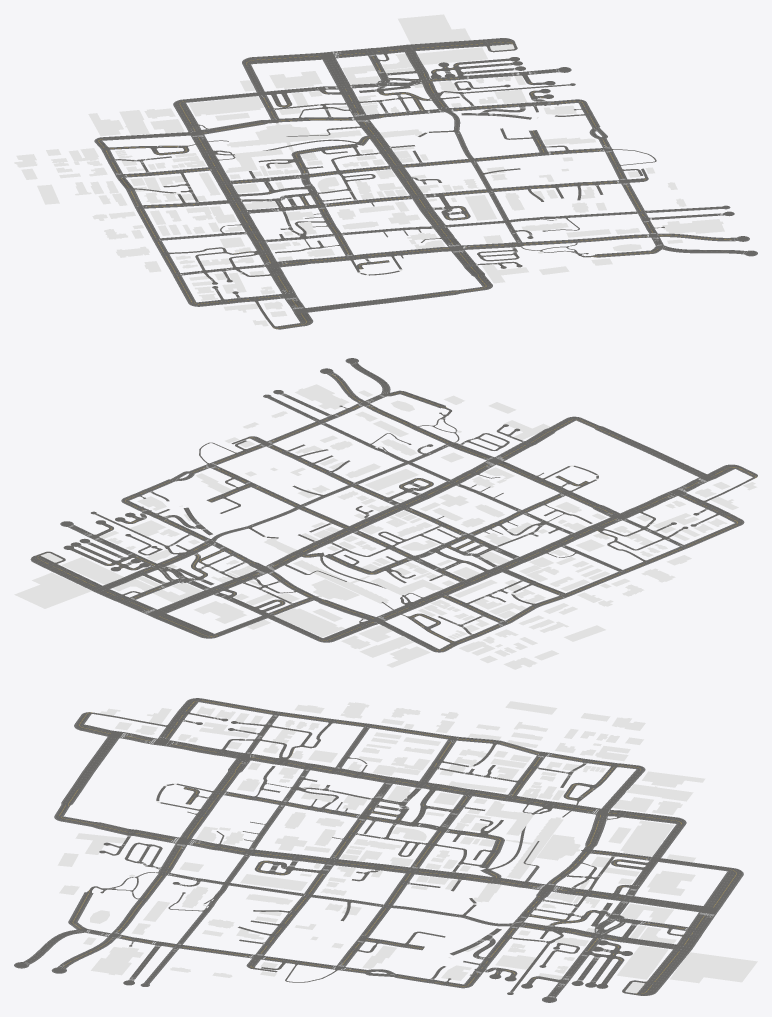
The model's file is Hamilton-James_0.fbx.
3 renders of one model, top to bottom at view 1: azimuth 30°, elevation 25°; view 2: azimuth 150°, elevation 25°; view 3: azimuth 270°, elevation 25°, orthographic. The views are drawn at different scales.
Parts seen in each view (by area): view 1: CityEngineShapeMaterial_m, CityEngineMaterial_4_m, CityEngineMaterial_2_m, CityEngineMaterial_m, CityEngineMaterial_1_m, CityEngineMaterial_5_m, CityEngineMaterial_6_m, CityEngineMaterial_9_m; view 2: CityEngineShapeMaterial_m, CityEngineMaterial_4_m, CityEngineMaterial_2_m, CityEngineMaterial_m, CityEngineMaterial_1_m, CityEngineMaterial_5_m, CityEngineMaterial_6_m, CityEngineMaterial_9_m; view 3: CityEngineShapeMaterial_m, CityEngineMaterial_4_m, CityEngineMaterial_2_m, CityEngineMaterial_m, CityEngineMaterial_1_m, CityEngineMaterial_5_m, CityEngineMaterial_6_m, CityEngineMaterial_9_m, CityEngineMaterial_10_m.
Boxes of the visible parts, x1,y1,x2,y2 form: CityEngineShapeMaterial_m: (14, 14, 724, 326); CityEngineMaterial_4_m: (96, 38, 735, 328); CityEngineMaterial_2_m: (94, 38, 757, 329); CityEngineMaterial_m: (102, 45, 756, 313); CityEngineMaterial_1_m: (95, 38, 756, 328); CityEngineMaterial_5_m: (98, 42, 730, 328); CityEngineMaterial_6_m: (114, 52, 723, 309); CityEngineMaterial_9_m: (141, 63, 733, 303); CityEngineShapeMaterial_m: (14, 384, 757, 669); CityEngineMaterial_4_m: (31, 366, 757, 651); CityEngineMaterial_2_m: (30, 358, 757, 652); CityEngineMaterial_m: (56, 359, 717, 645); CityEngineMaterial_1_m: (31, 358, 757, 651); CityEngineMaterial_5_m: (37, 374, 756, 650); CityEngineMaterial_6_m: (69, 393, 707, 635); CityEngineMaterial_9_m: (78, 374, 691, 627); CityEngineShapeMaterial_m: (57, 701, 757, 993); CityEngineMaterial_4_m: (31, 699, 741, 996); CityEngineMaterial_2_m: (14, 698, 743, 1002); CityEngineMaterial_m: (15, 712, 718, 1002); CityEngineMaterial_1_m: (17, 698, 742, 1002); CityEngineMaterial_5_m: (59, 700, 736, 993); CityEngineMaterial_6_m: (86, 715, 714, 997); CityEngineMaterial_9_m: (61, 722, 656, 989); CityEngineMaterial_10_m: (144, 727, 646, 974).
Size of the model in its own units: 824 by 27.78 by 889.
